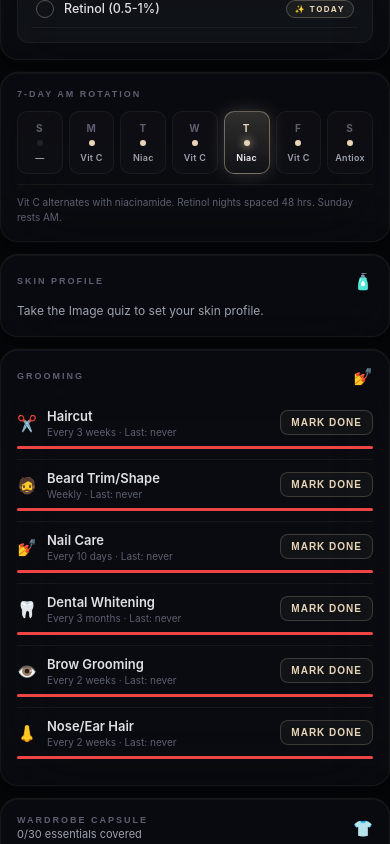
ImageView › marking a grooming item done persists via setProtocolState(skincare, groomingLastDone)
(page scrolled)
Click the button "Mark done" in the row of "Every 3 weeks" at (327, 423), box [280,410,373,435]
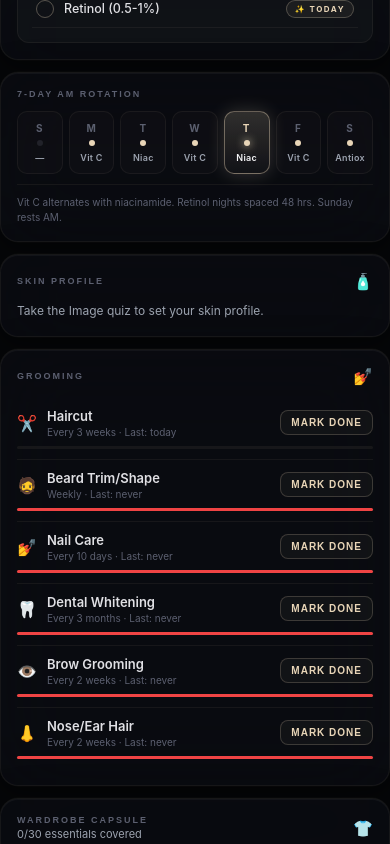
expect the text "Last: today" is shown: met, box [47,426,176,438]
